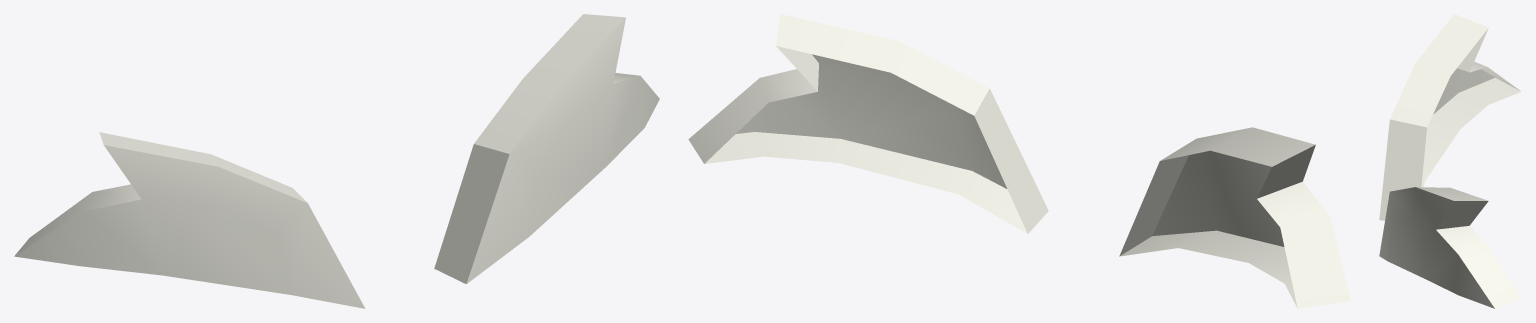
File: Brow_White_6.fbx
The picture shows the model from 3 angles, left to right: view 1: azimuth 30°, elevation 25°; view 2: azimuth 150°, elevation 25°; view 3: azimuth 270°, elevation 25°; orthographic projection. The views are drawn at different scales.
Visible parts, largest first — view 1: Brow_White_6; view 2: Brow_White_6; view 3: Brow_White_6.
Part boxes in pixels (x1,y1,x2,y2): Brow_White_6: (14, 14, 659, 308); Brow_White_6: (688, 14, 1350, 308); Brow_White_6: (1379, 14, 1521, 308).
Size of the model in its own units: 40.86 by 10.89 by 10.63.
